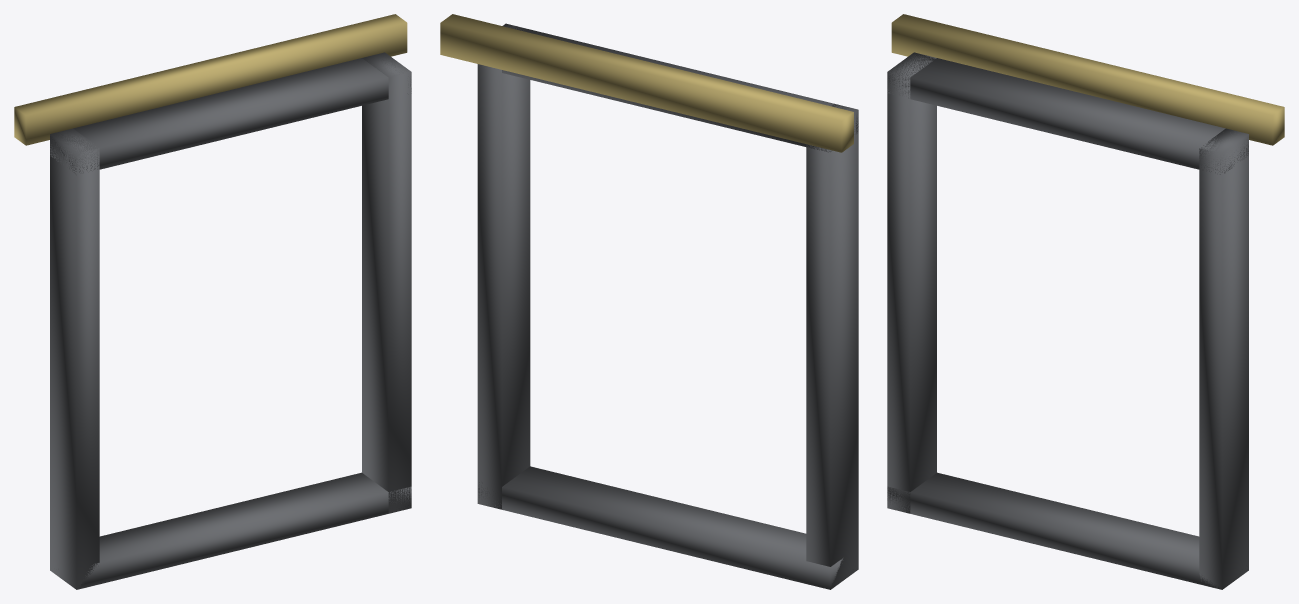
File: egress_window_motel_w100_h130_s55_d16.glb
The picture shows the model from 3 angles, left to right: view 1: azimuth 30°, elevation 25°; view 2: azimuth 150°, elevation 25°; view 3: azimuth 330°, elevation 25°; orthographic projection. The views are drawn at different scales.
Visible parts, largest first — view 1: world; view 2: world; view 3: world.
Boxes of the visible parts, x1,y1,x2,y2 form: world: [14, 14, 411, 589]; world: [440, 14, 858, 589]; world: [887, 14, 1284, 589].
Size of the model in its own units: 1.32 by 1.52 by 0.235.
